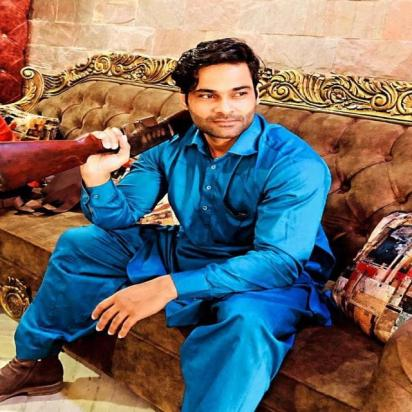Gun: (0, 80, 274, 194)
